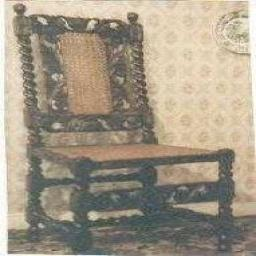Chair: (13, 3, 235, 252)
